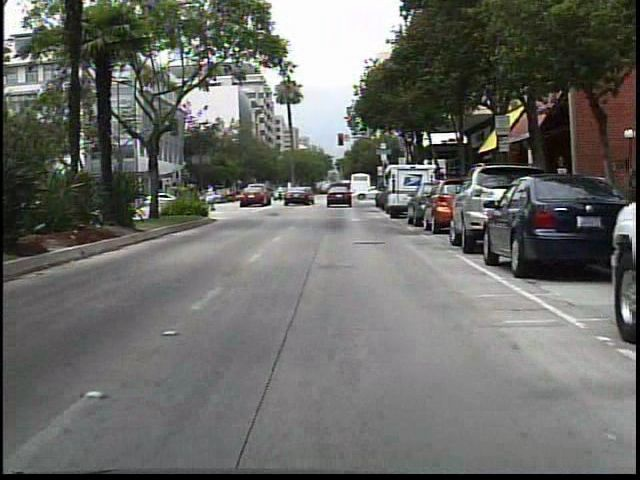person: (274, 181, 288, 205), (290, 183, 304, 205)
